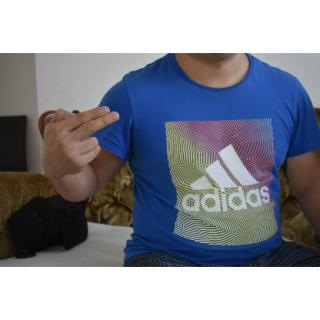AYN: (42, 102, 121, 177)
